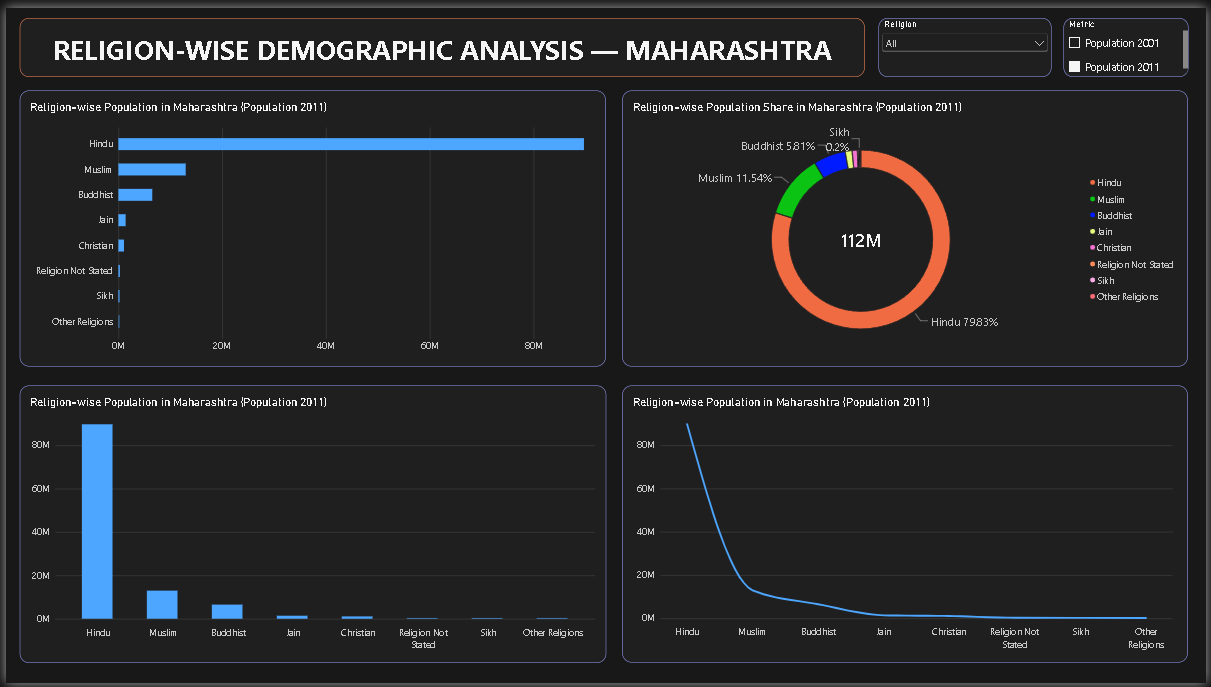

This screenshot's page, from the dashboard's own definition file:
{"tool":"powerbi","page":{"name":"Religion Analysis","canvas":[1920,1080],"ordinal":1},"visuals":[{"type":"textbox","box":[21.4,15.7,1372.9,94.3],"z":0},{"type":"clusteredBarChart","title":"Religion-wise Population in Maharashtra (2011)","fields":{"Category":["religion_comparison_2001_2011.Religion"],"Y":["Sum(religion_comparison_2001_2011.Population_2011)"]},"box":[22,144,938,430],"z":1000},{"type":"donutChart","title":"Religion-wise Population Share in Maharashtra (2011)","fields":{"Category":["religion_comparison_2001_2011.Religion"],"Y":["Sum(religion_comparison_2001_2011.Share_2011_Percent)"]},"box":[986,144,906,430],"z":2000},{"type":"lineChart","title":"Religion-wise Population Growth (2001–2011)","fields":{"Category":["religion_comparison_2001_2011.Religion"],"Y":["Sum(religion_comparison_2001_2011.Growth_Percent)"]},"box":[986,604,906,444],"z":3000},{"type":"clusteredColumnChart","title":"Religion-wise Population Change (2001–2011)","fields":{"Category":["religion_comparison_2001_2011.Religion"],"Y":["Sum(religion_comparison_2001_2011.Population_Change)"]},"box":[22,604,938,444],"z":4000},{"type":"slicer","fields":{"Values":["religion_comparison_2001_2011.Religion"]},"box":[1411.4,15.7,261.4,94.3],"z":5000},{"type":"slicer","fields":{"Values":["Population_Metric.Metric"]},"box":[1692.9,15.7,200,94.3],"z":6000}]}

Visuals, with their boxes in screenshot pixels (x1, y1, x2, y2), scaled from the page's 1920x1080 canvas onto the 1211x687 screenshot:
textbox: box=[13, 10, 879, 70]
"Religion-wise Population in Maharashtra (2011)" clusteredBarChart: box=[14, 92, 606, 365]
"Religion-wise Population Share in Maharashtra (2011)" donutChart: box=[622, 92, 1193, 365]
"Religion-wise Population Growth (2001–2011)" lineChart: box=[622, 384, 1193, 667]
"Religion-wise Population Change (2001–2011)" clusteredColumnChart: box=[14, 384, 606, 667]
slicer - religion_comparison_2001_2011.Religion: box=[890, 10, 1055, 70]
slicer - Population_Metric.Metric: box=[1068, 10, 1194, 70]
